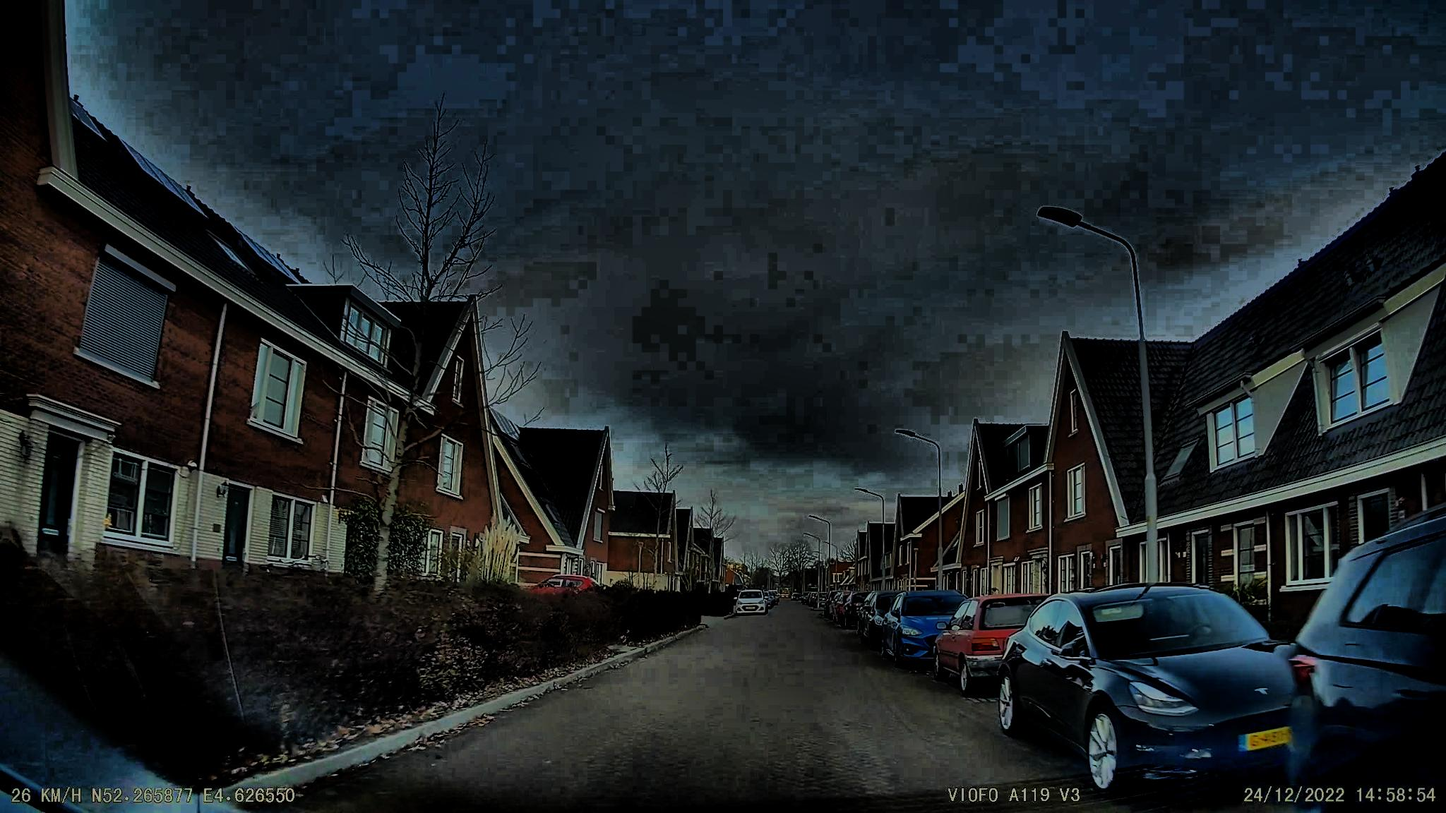Roads: (236, 606, 1257, 813)
